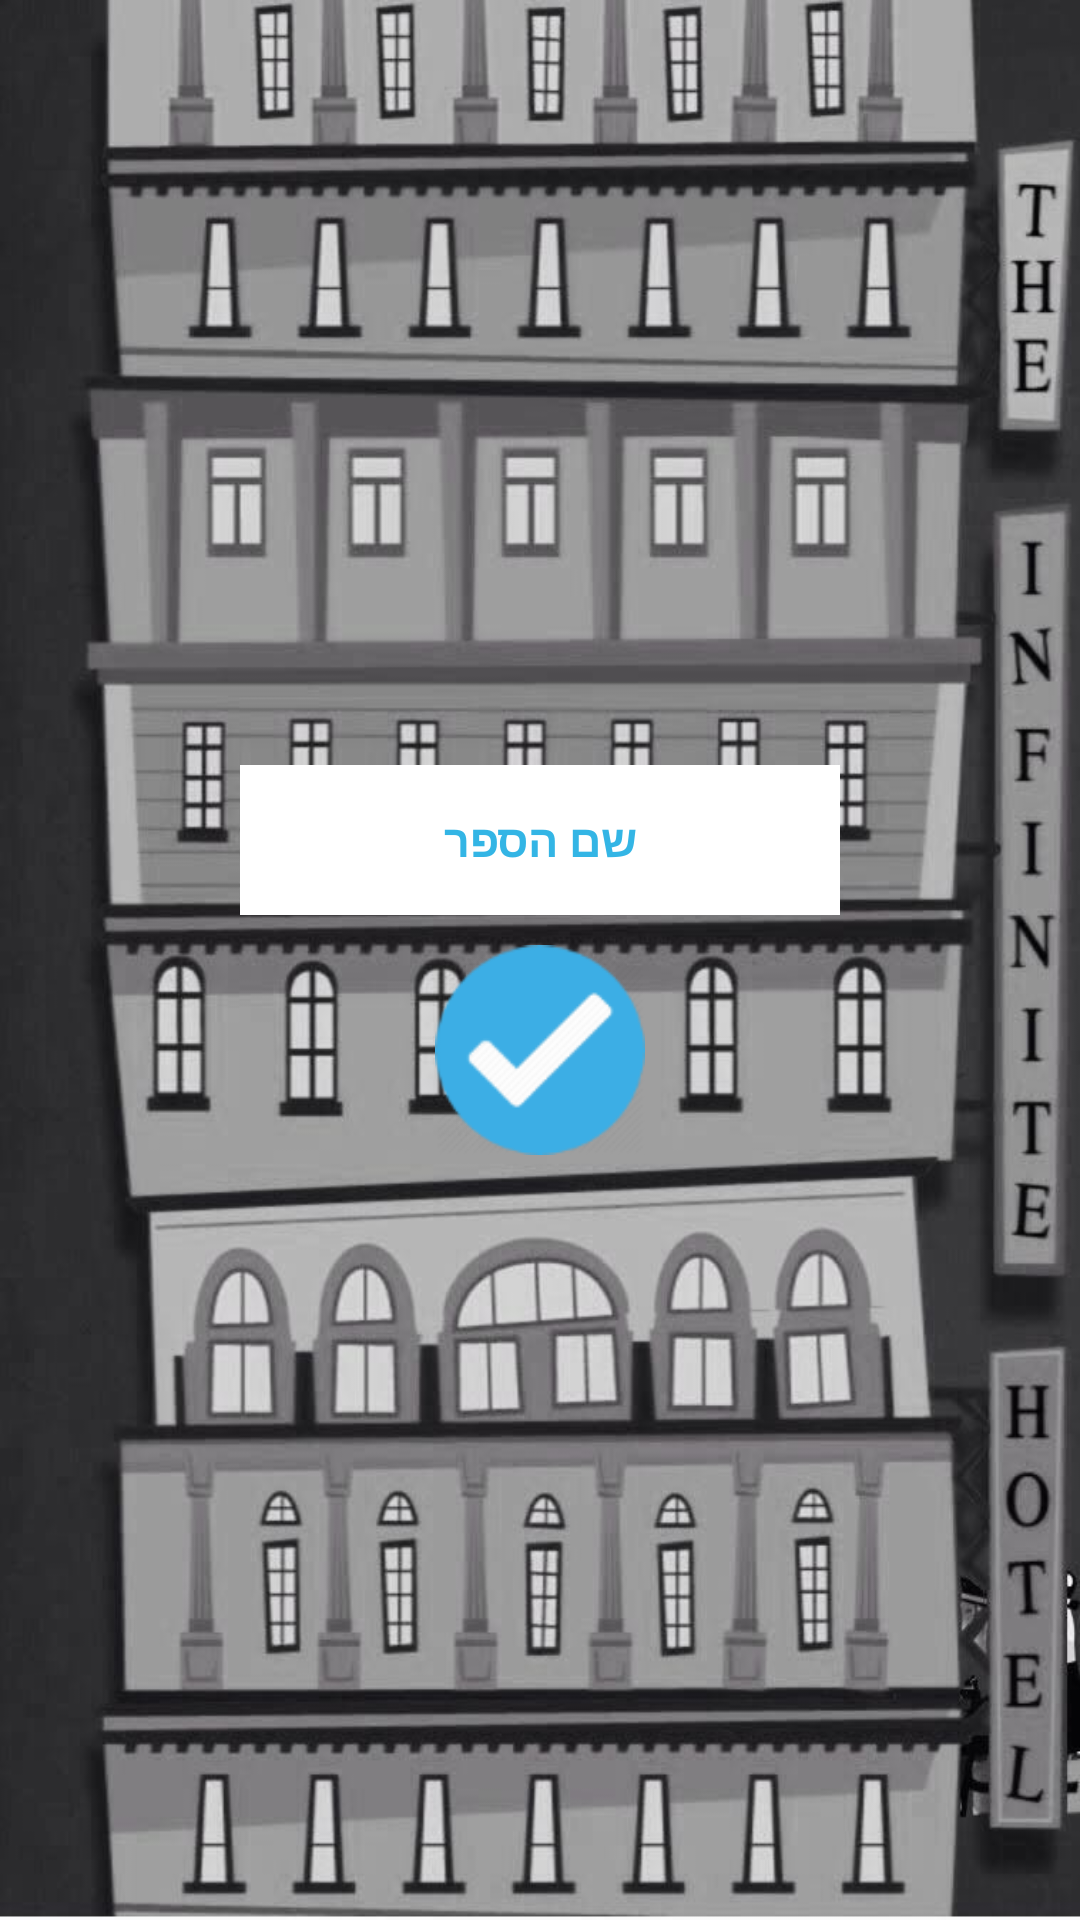

Icon click points for this 1080x1920 phone screenshot, format [x,y]:
tickcyan: [540,1050]
